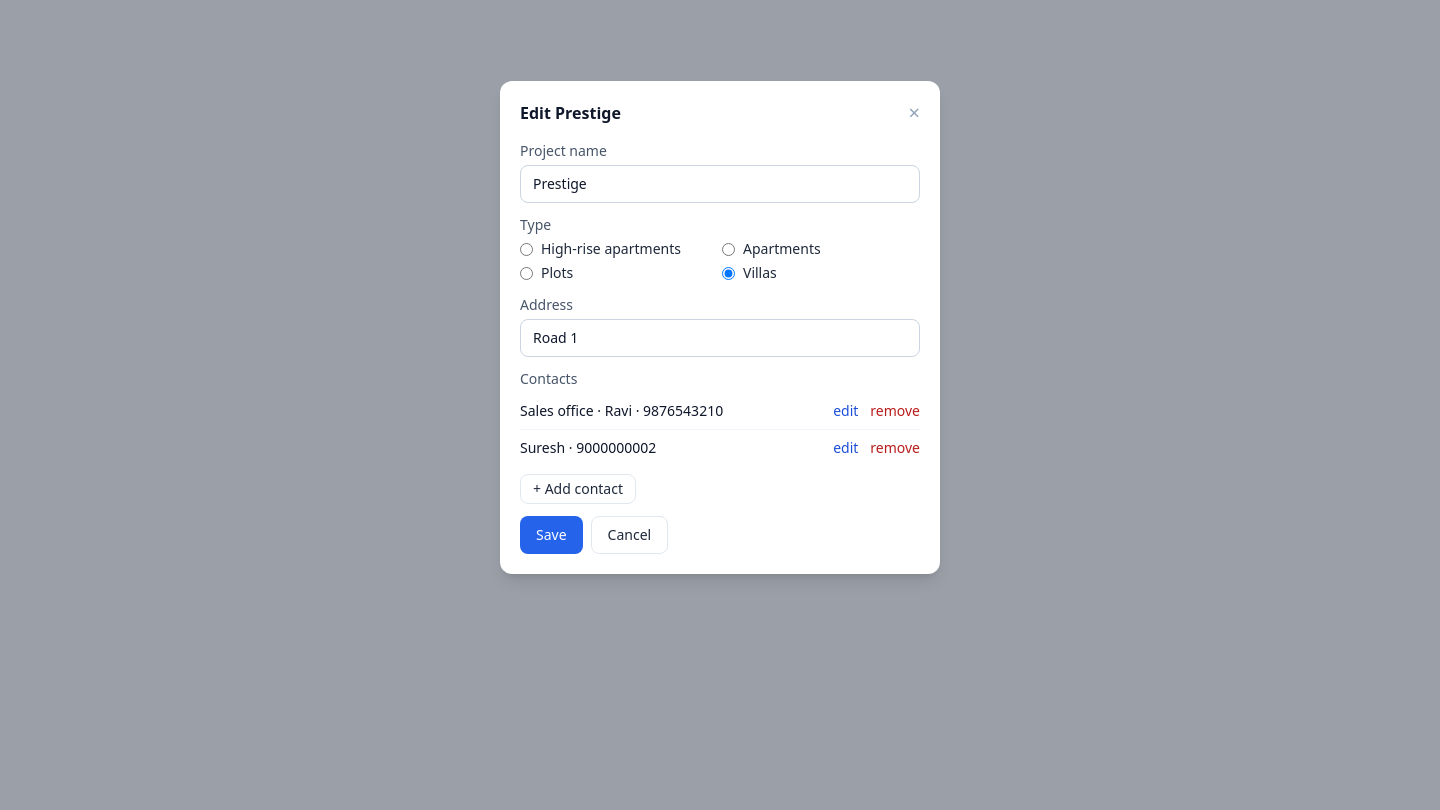
ProjectForm › shows the server's message
expect the button with aria-label "Remove Ravi" is shown: met, box x1=870 y1=401 x2=920 y2=421
Click the button "Save".
click(551, 535)  # box x1=520 y1=516 x2=583 y2=554
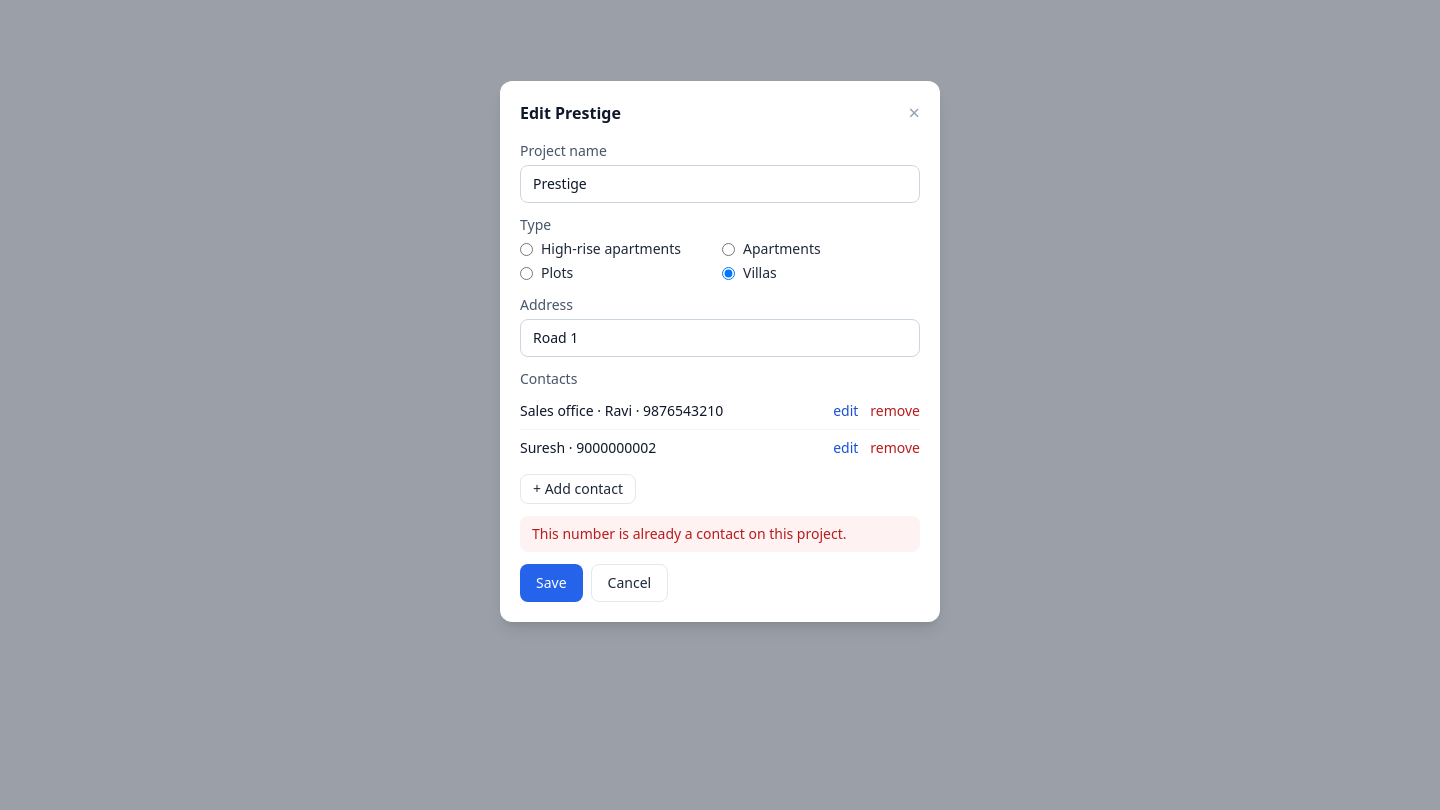
expect the message reads "This number is already a contact on this project.": met, box x1=532 y1=524 x2=846 y2=543
